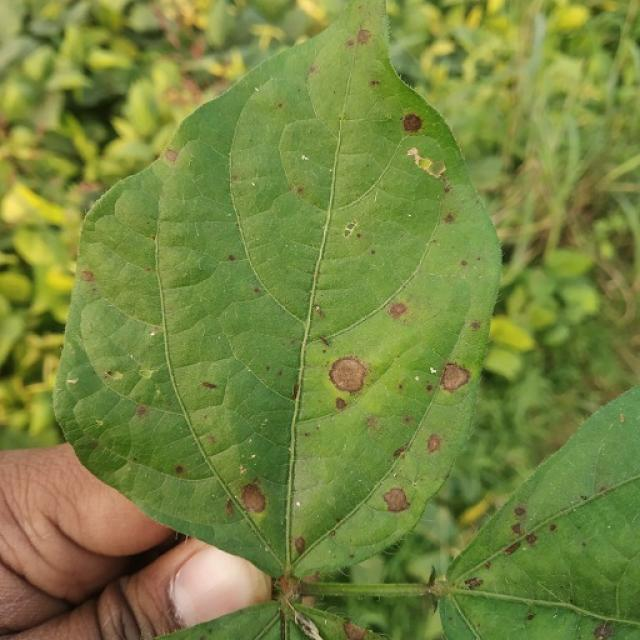Anthracnose: (329, 355, 370, 409), (439, 362, 472, 393), (240, 482, 267, 514), (382, 486, 411, 513), (342, 621, 369, 640), (278, 576, 300, 598), (401, 112, 423, 133), (593, 620, 614, 640), (387, 302, 408, 319), (426, 433, 442, 454), (503, 540, 521, 555), (356, 28, 371, 45), (464, 577, 483, 589), (294, 536, 306, 554), (135, 404, 149, 418), (164, 149, 178, 163), (525, 532, 538, 546), (393, 445, 407, 458), (80, 270, 94, 282), (225, 499, 234, 517), (511, 522, 523, 535), (513, 506, 526, 517), (200, 381, 217, 389), (443, 212, 455, 223), (469, 320, 481, 331), (292, 383, 300, 399), (174, 465, 185, 475), (308, 65, 317, 75), (548, 523, 557, 532), (526, 613, 535, 622), (370, 79, 380, 87), (296, 186, 304, 195), (227, 254, 236, 261), (460, 260, 468, 267), (253, 287, 260, 294)
Blackgram: (54, 0, 499, 579)
